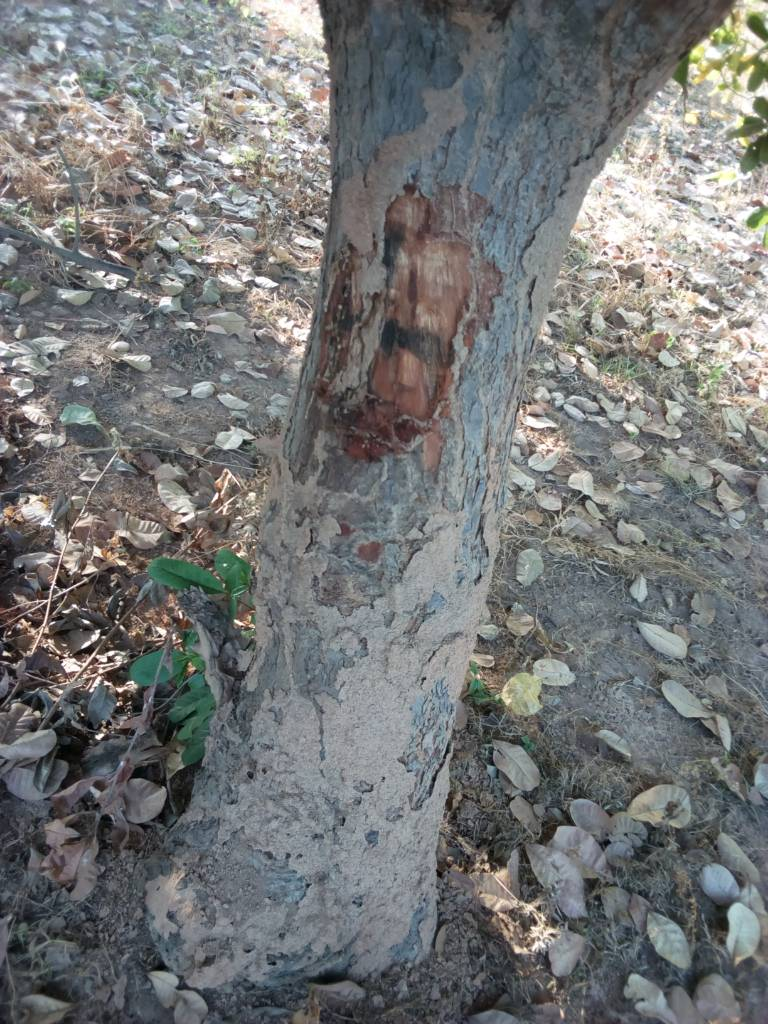Termites: (233, 482, 458, 964), (325, 17, 596, 363)
